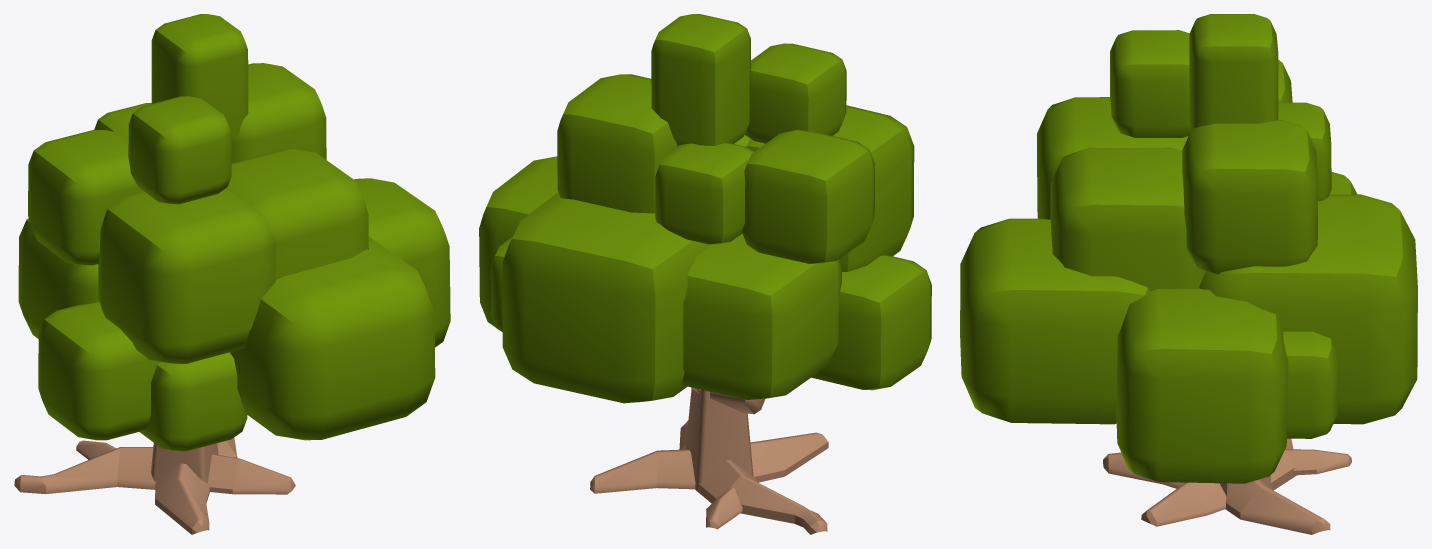
The model's file is SM_Pararie_Tree_01_Wind_anim.fbx.
3 renders of one model, left to right at view 1: azimuth 30°, elevation 25°; view 2: azimuth 150°, elevation 25°; view 3: azimuth 270°, elevation 25°, orthographic. The views are drawn at different scales.
Parts seen in each view (by area): view 1: SM_Pararie_Tree_01; view 2: SM_Pararie_Tree_01; view 3: SM_Pararie_Tree_01.
Part boxes in pixels (x1=…): SM_Pararie_Tree_01: x1=14, y1=14, x2=450, y2=534; SM_Pararie_Tree_01: x1=479, y1=14, x2=931, y2=534; SM_Pararie_Tree_01: x1=960, y1=14, x2=1417, y2=534.
Bounding box in the file's own units: 295 × 326 × 284.
